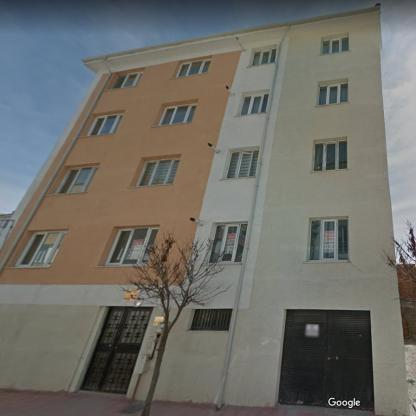door: (279, 311, 373, 408), (80, 307, 152, 394)
window: (104, 226, 158, 266), (14, 231, 66, 268), (308, 217, 347, 262), (207, 223, 246, 263), (56, 166, 100, 194), (135, 158, 179, 186), (313, 140, 346, 171), (226, 149, 259, 178), (191, 309, 231, 331), (86, 113, 124, 136), (158, 104, 196, 125), (239, 92, 268, 116), (174, 59, 210, 78), (318, 82, 347, 105), (322, 37, 349, 55), (111, 72, 141, 88), (252, 47, 277, 66)
